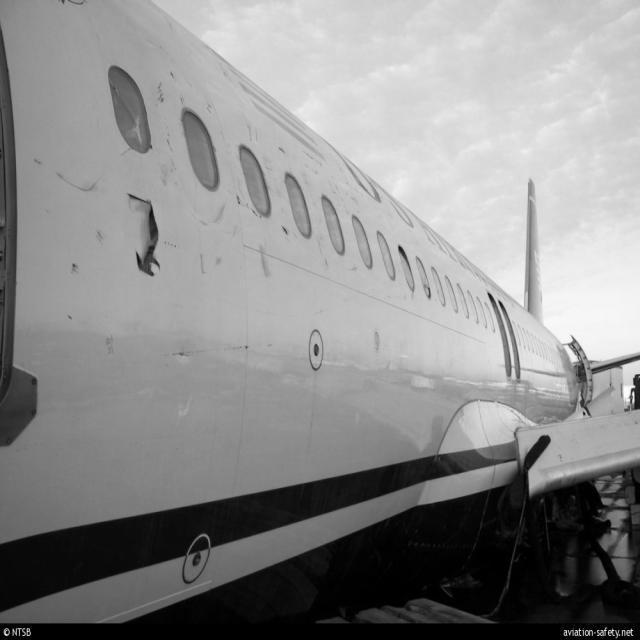crack: (127, 189, 160, 283)
